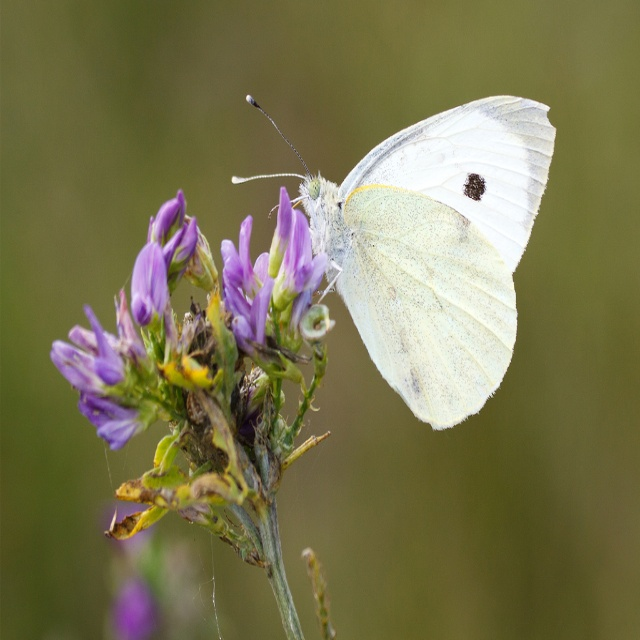Butterfly: (231, 94, 557, 430)
